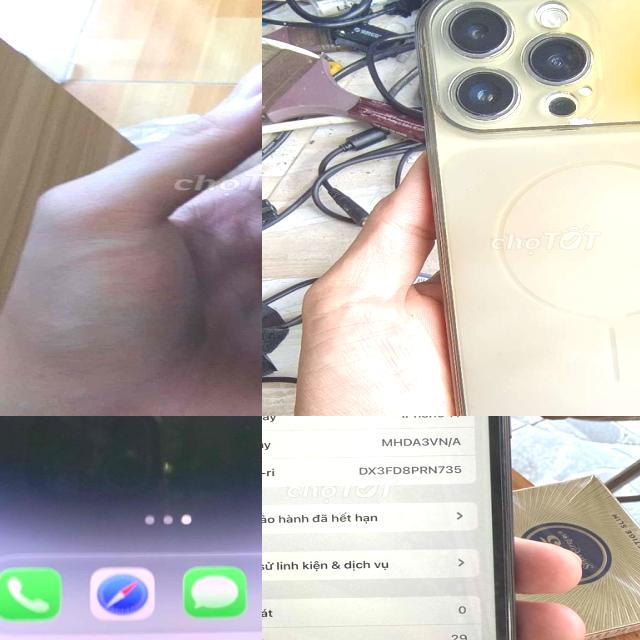scratch: (502, 588, 523, 640)
